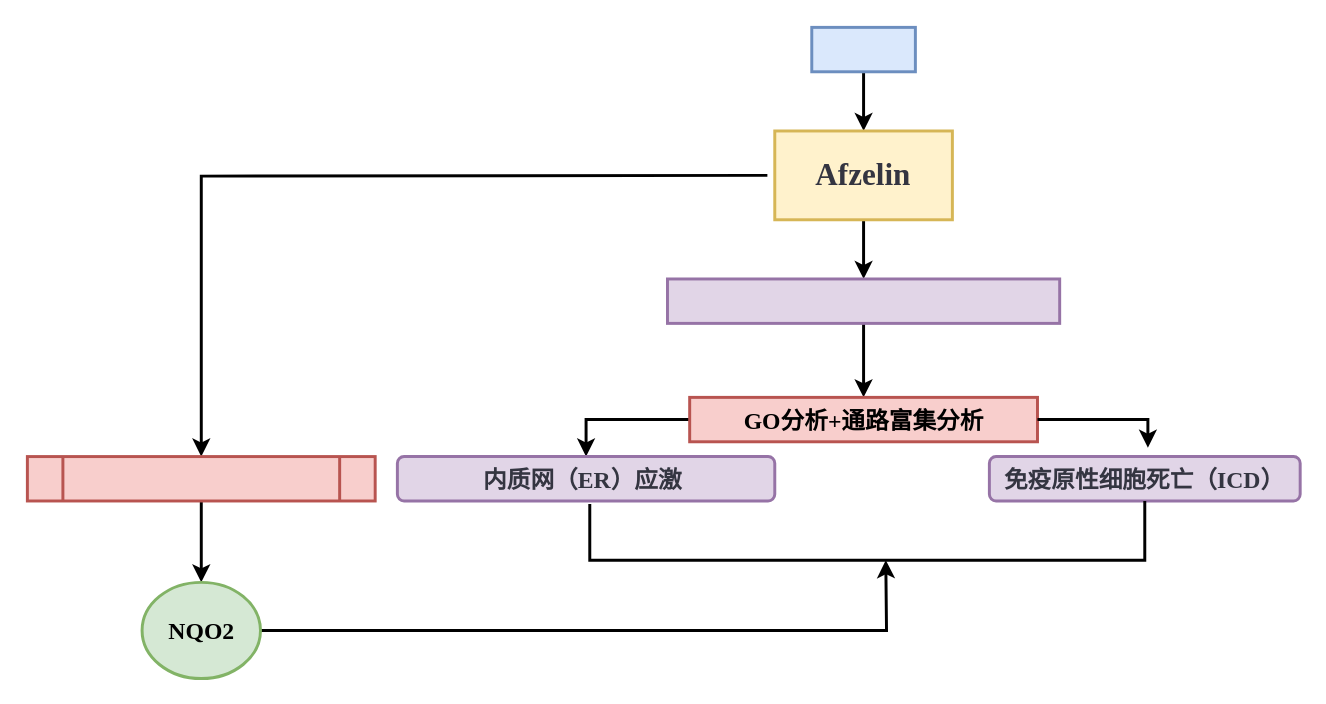
Some shapes in this 1326 by 704 pixel diagram are drawn without their labels. The shapes that lost their labels are listed below. From the top down, each one's centre as x and y in pixels, then its label:
the point at 863,49: 肺癌
the point at 862,300: 细胞存活率、增殖、凋亡
the point at 200,478: SwissTargetPrediction
